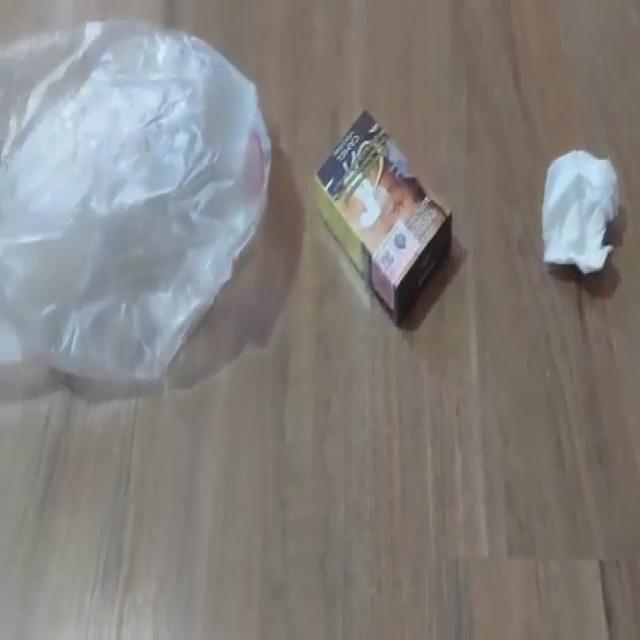Anorganik: (1, 10, 274, 393)
Organik: (311, 103, 455, 332), (538, 141, 621, 280)
